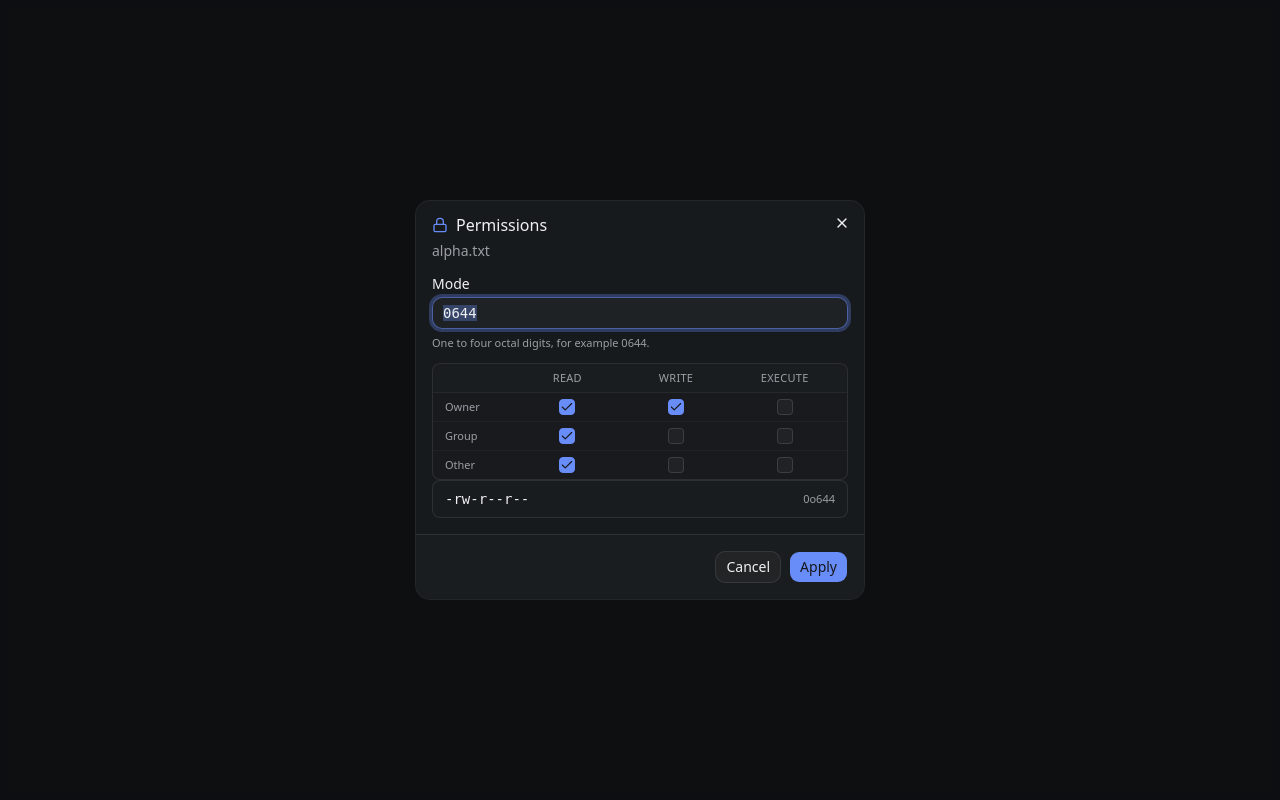
Test: PermissionsDialog › rejects an invalid mode
Replace the text in the field labelled "Mode" with "0899" at point(640, 313), box [432,297,848,329]
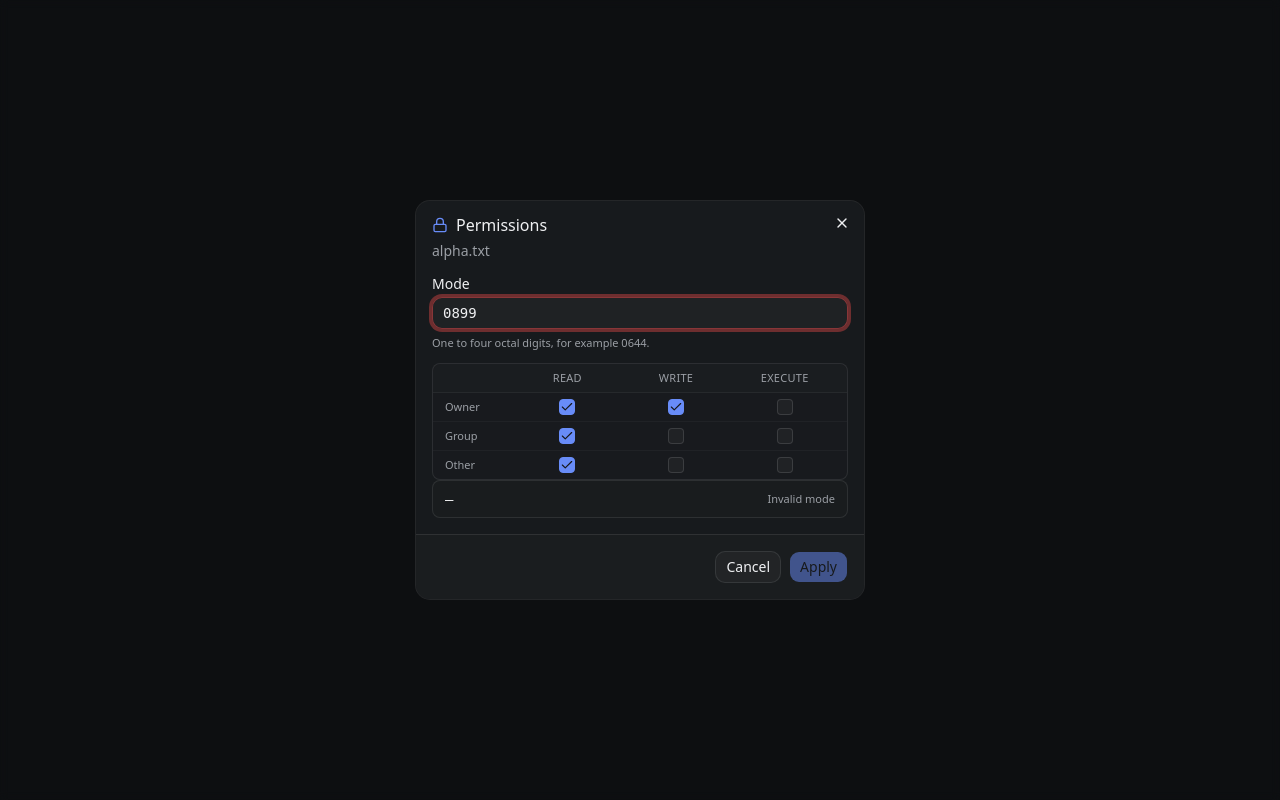
expect the button "Apply" is disabled: met, box [789,551,848,583]
expect the text "Invalid mode" is shown: met, box [768,491,835,507]
